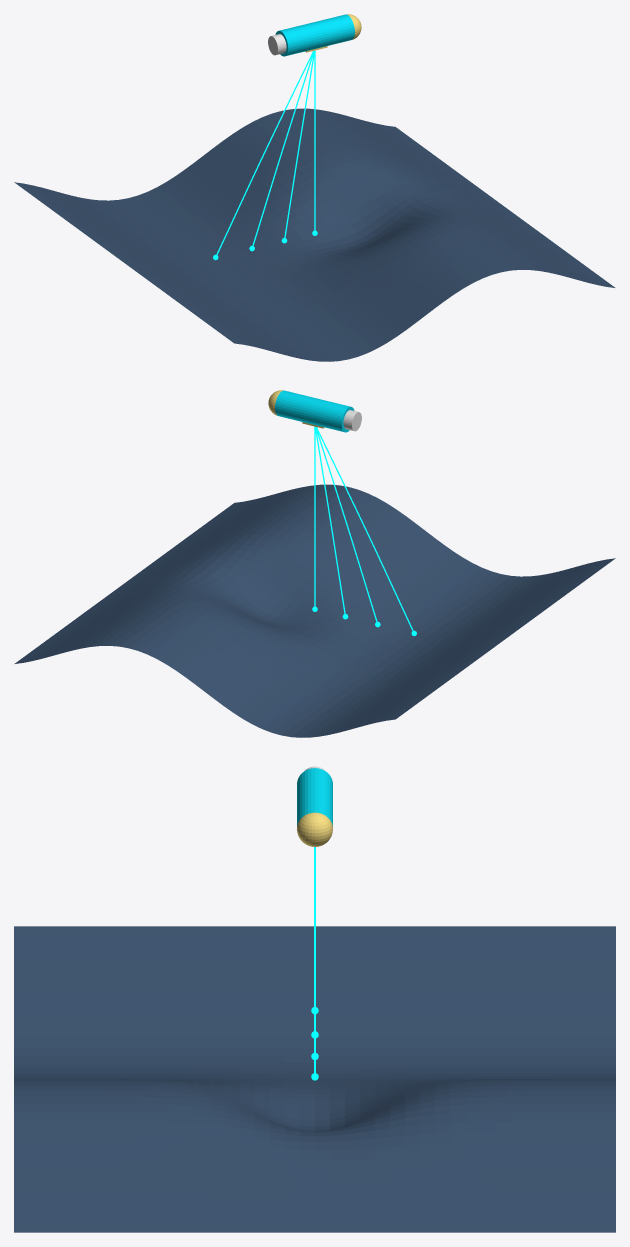
File: aquapulse_digital_twin.glb
3 views of the same model, one above another, from view 1: azimuth 30°, elevation 25°; view 2: azimuth 150°, elevation 25°; view 3: azimuth 270°, elevation 25° (orthographic). The views are drawn at different scales.
Parts seen in each view (by area): view 1: Bathymetric_Seabed, AUV_Submersible_Hull; view 2: Bathymetric_Seabed, AUV_Submersible_Hull; view 3: Bathymetric_Seabed, AUV_Submersible_Hull, AUV_Nose_Dome.
Part boxes in pixels (x1=…): Bathymetric_Seabed: x1=14, y1=108, x2=615, y2=361; AUV_Submersible_Hull: x1=275, y1=14, x2=354, y2=56; Bathymetric_Seabed: x1=14, y1=484, x2=615, y2=737; AUV_Submersible_Hull: x1=275, y1=390, x2=354, y2=432; Bathymetric_Seabed: x1=14, y1=926, x2=615, y2=1232; AUV_Submersible_Hull: x1=297, y1=768, x2=332, y2=826; AUV_Nose_Dome: x1=297, y1=812, x2=332, y2=846.
Size of the model in its own units: 40 by 23.71 by 40.
